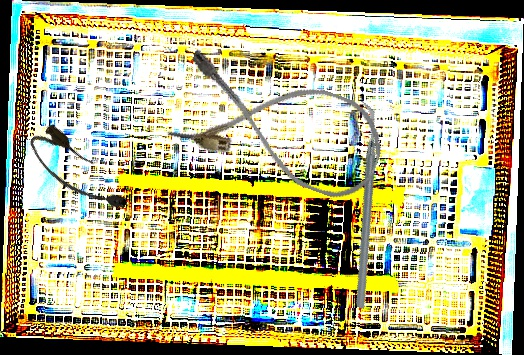Cannula: (164, 44, 395, 208), (22, 119, 134, 227)
Chopper: (278, 99, 449, 311)
